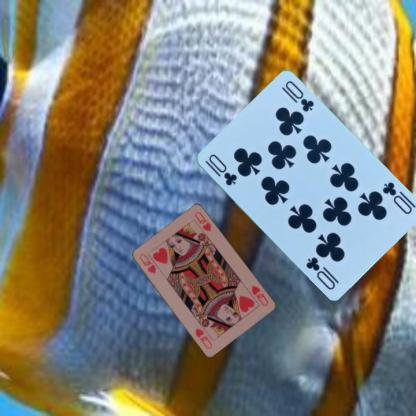10c: (202, 151, 238, 187), (379, 179, 413, 216)
Qh: (136, 251, 158, 275), (248, 283, 270, 307)
